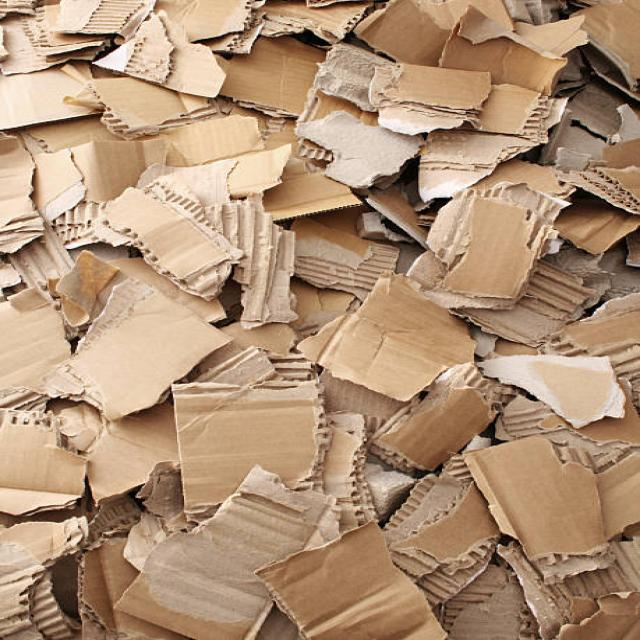electronic: (43, 284, 234, 422), (252, 519, 449, 639), (295, 272, 477, 401), (170, 378, 325, 522), (424, 180, 570, 306), (476, 352, 626, 429)
